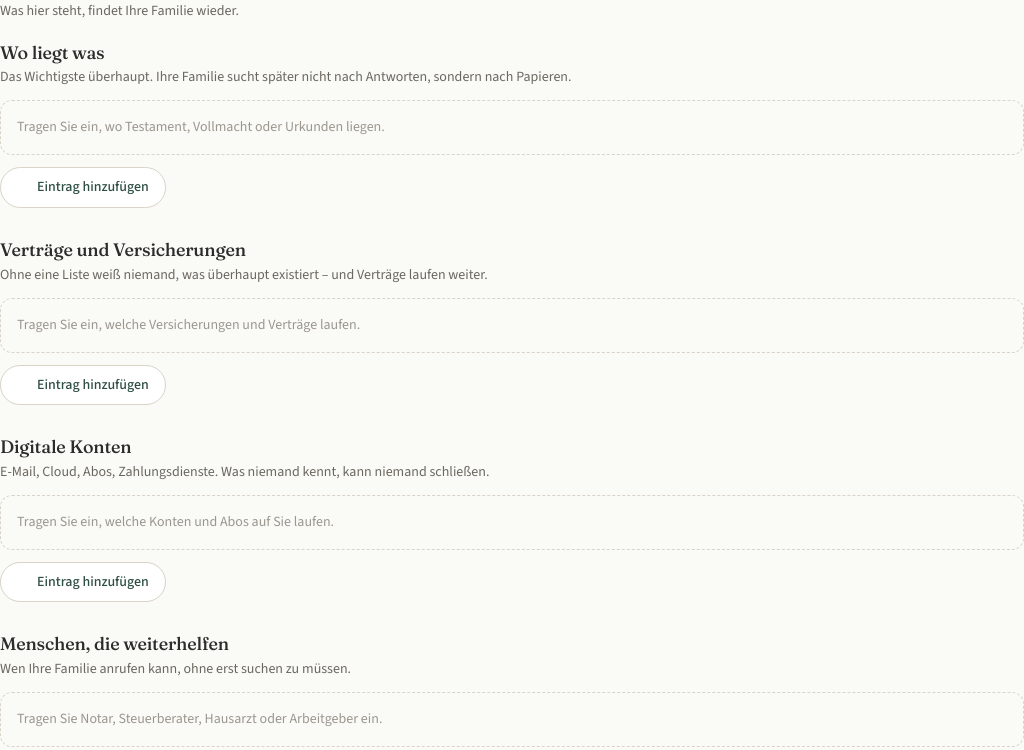
Test: EntriesPanel › opens a form on demand and never more than one per section
Click the button "Eintrag hinzufügen" below "Wo liegt was" at point(83, 188), box [0,167,166,208]
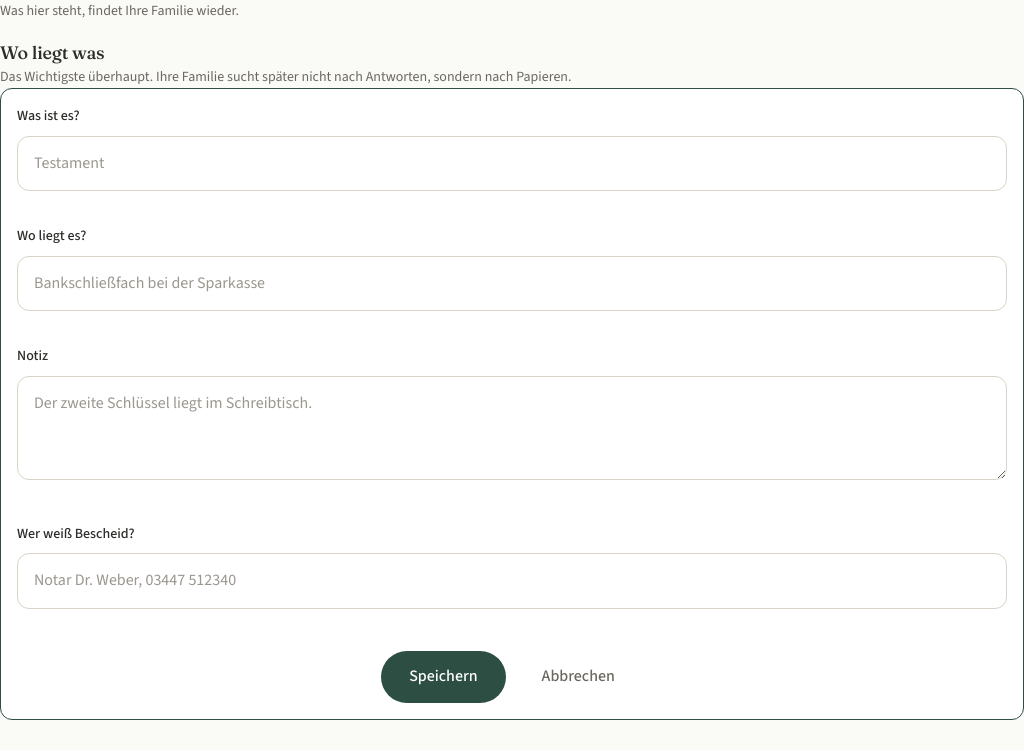
Check: the number of elements with class "entry-section__editor" is 1
